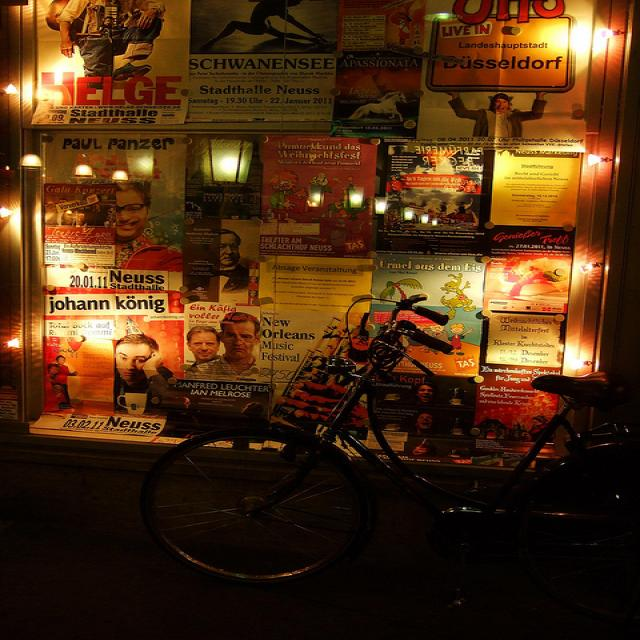Bicycle: (133, 266, 640, 589)
